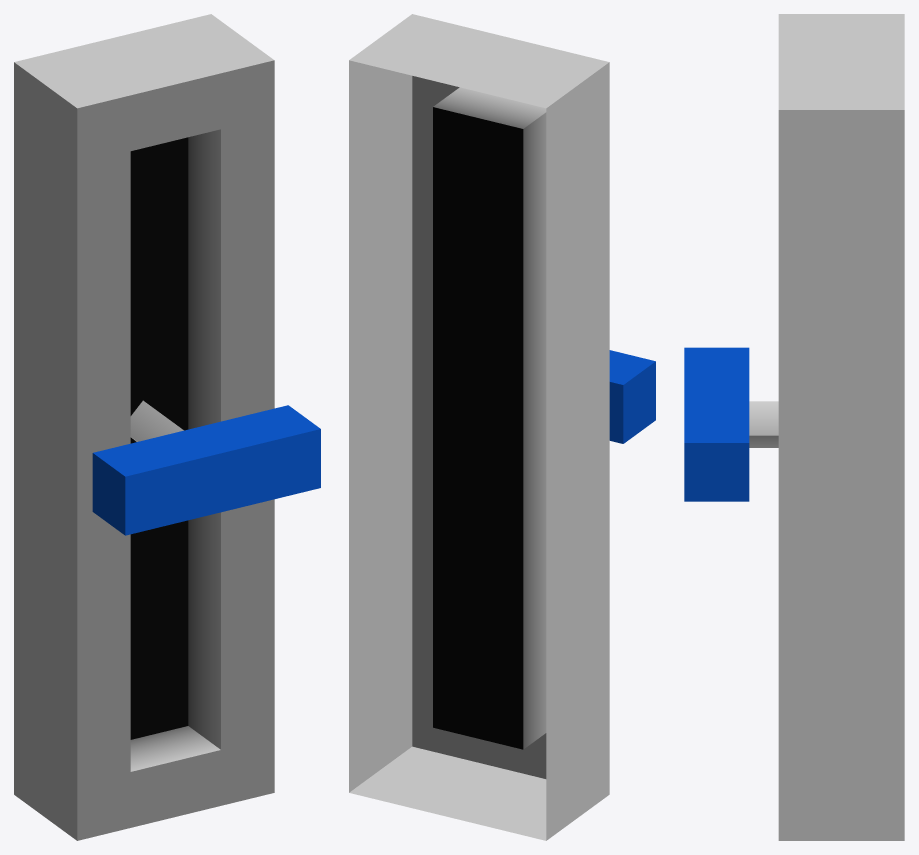
The model's file is Slider Input.fbx.
3 views of the same model, side by side, from view 1: azimuth 30°, elevation 25°; view 2: azimuth 150°, elevation 25°; view 3: azimuth 270°, elevation 25° (orthographic).
Parts seen in each view (by area): view 1: Basement, Slider; view 2: Basement, Slider; view 3: Basement, Slider.
Boxes of the visible parts, bbox=[...] form: Basement: bbox=[14, 14, 274, 840]; Slider: bbox=[92, 400, 320, 535]; Basement: bbox=[349, 14, 609, 840]; Slider: bbox=[609, 350, 655, 443]; Basement: bbox=[778, 14, 904, 840]; Slider: bbox=[684, 347, 778, 501].
Size of the model in its own units: 4.31 by 15.3 by 4.18.
